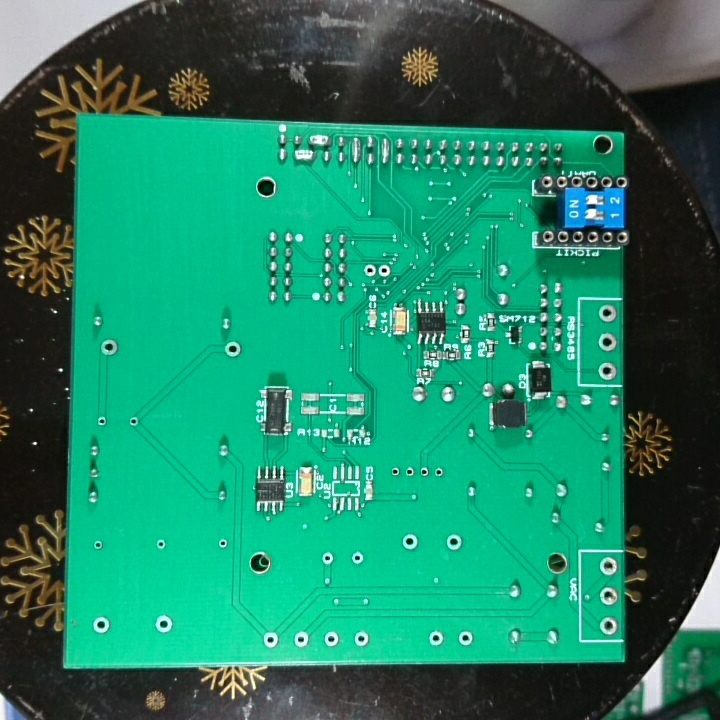F: (97, 336, 121, 361), (597, 555, 620, 579), (153, 612, 175, 637), (597, 585, 619, 609), (596, 329, 617, 354), (597, 303, 619, 326), (443, 531, 465, 554), (456, 626, 477, 650), (598, 613, 618, 638), (595, 360, 617, 382), (222, 338, 243, 361), (91, 614, 111, 637), (426, 627, 446, 649), (400, 530, 419, 553), (261, 629, 281, 650), (352, 629, 371, 649), (292, 629, 311, 649), (318, 549, 337, 569), (322, 629, 340, 649), (348, 548, 366, 567), (431, 463, 448, 481), (215, 535, 231, 554), (153, 535, 170, 552), (127, 413, 143, 431), (361, 262, 377, 279), (94, 412, 110, 429), (402, 462, 417, 480), (91, 537, 105, 555), (417, 463, 431, 481), (387, 463, 402, 479), (377, 263, 391, 279)
P: (377, 132, 391, 165), (348, 134, 362, 166), (306, 132, 331, 149), (292, 146, 316, 163)
